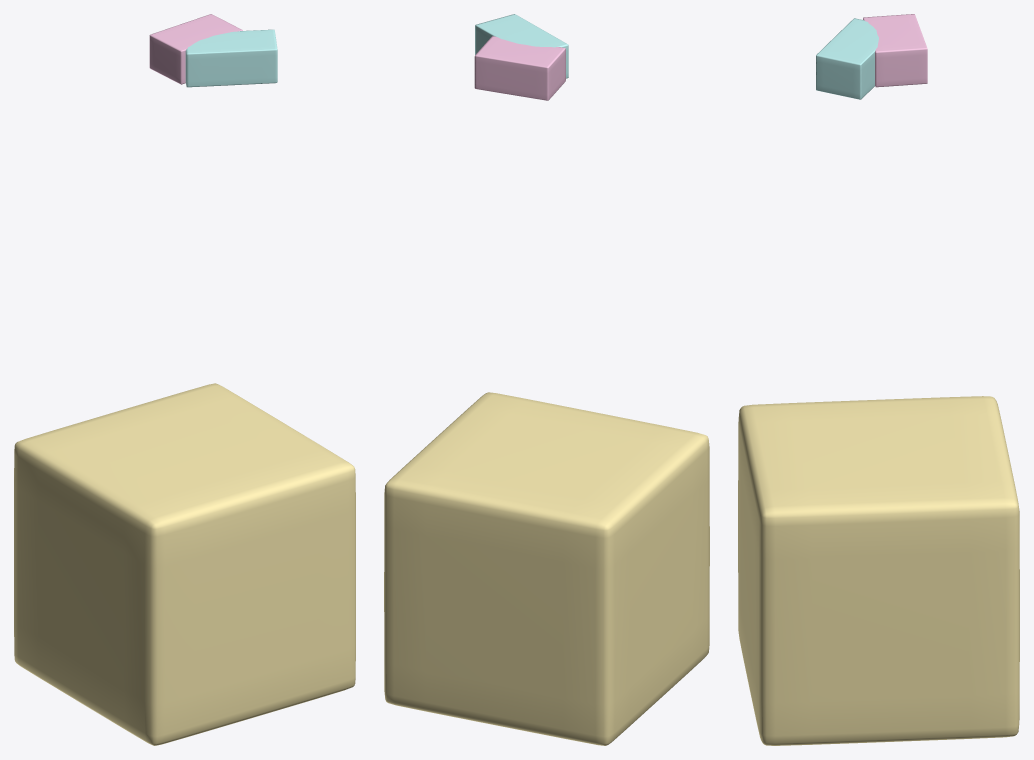
File: PROP_Frisbee_v2.glb
The picture shows the model from 3 angles, left to right: view 1: azimuth 30°, elevation 25°; view 2: azimuth 150°, elevation 25°; view 3: azimuth 270°, elevation 25°; orthographic projection. The views are drawn at different scales.
Visible parts, largest first — view 1: PROP_Frisbee_v2; view 2: PROP_Frisbee_v2; view 3: PROP_Frisbee_v2.
Part boxes in pixels (bbox=[...]): PROP_Frisbee_v2: bbox=[14, 14, 355, 745]; PROP_Frisbee_v2: bbox=[384, 14, 709, 745]; PROP_Frisbee_v2: bbox=[738, 14, 1019, 745].
Bounding box in the file's own units: 1.05 × 2.7 × 1.03.
